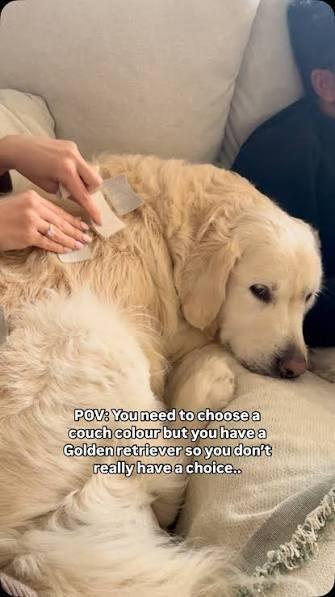adult_dog: (0, 146, 323, 592)
